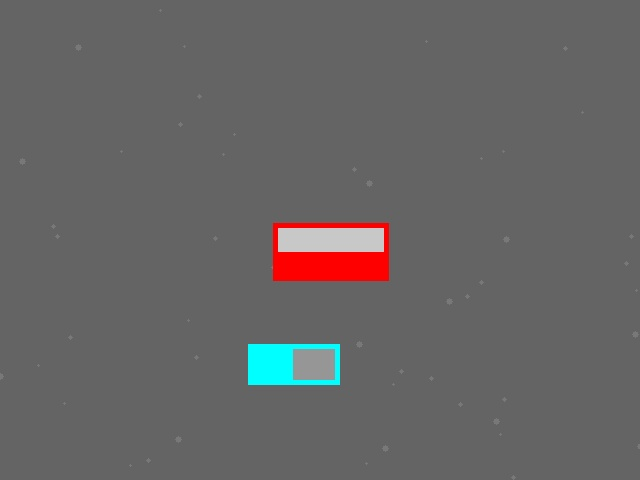car: (273, 223, 388, 280)
truck: (248, 344, 339, 384)
